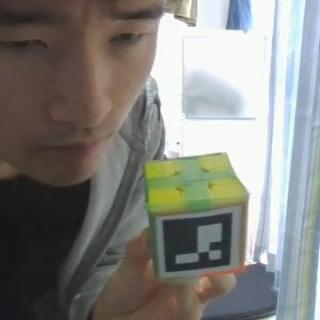armor: (156, 206, 240, 277)
robot: (144, 152, 248, 280)
